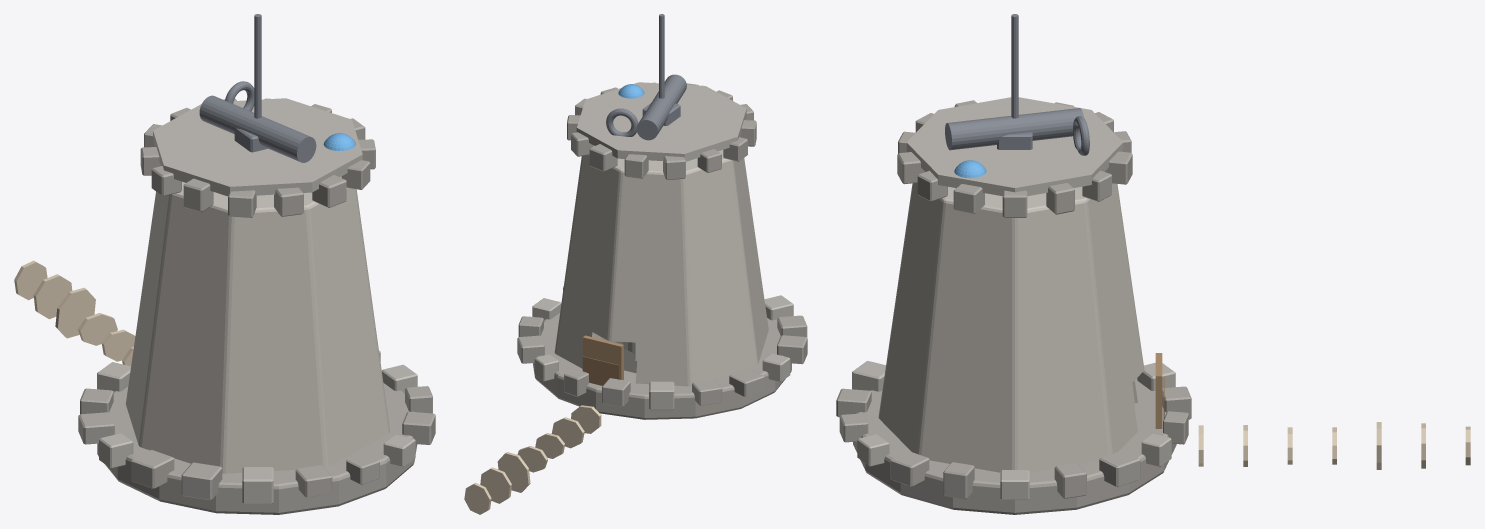
File: defense_tower.glb
3 views of the same model, side by side, from view 1: azimuth 30°, elevation 25°; view 2: azimuth 150°, elevation 25°; view 3: azimuth 270°, elevation 25° (orthographic). The views are drawn at different scales.
Visible parts, largest first — view 1: TowerBody, TopPlatform, StoneBaseRing, TurretBarrel, PathStone_4, BaseStone_11, BaseStone_10, BaseStone_12, PathStone_5, BaseStone_13, BaseStone_08, BaseStone_09 (+19 smaller); view 2: TowerBody, TopPlatform, StoneBaseRing, TurretBarrel, DoorLeaf, PathStone_4, PathStone_5, BaseStone_06, BaseStone_08, BaseStone_10, BaseStone_05, PathStone_1 (+22 smaller); view 3: TowerBody, TopPlatform, StoneBaseRing, TurretBarrel, BaseStone_02, BaseStone_16, BaseStone_17, BaseStone_01, BaseStone_00, BaseStone_12, BaseStone_15, BaseStone_13 (+7 smaller).
Boxes of the visible parts, x1,y1,x2,y2 form: TowerBody: (126,176,389,473); TopPlatform: (153,98,362,196); StoneBaseRing: (97,383,417,514); TurretBarrel: (199,95,316,162); PathStone_4: (55,287,95,338); BaseStone_11: (181,462,222,500); BaseStone_10: (131,450,174,488); BaseStone_12: (242,467,273,504); PathStone_5: (33,274,72,319); BaseStone_13: (295,465,332,497); BaseStone_08: (78,412,114,444); BaseStone_09: (99,433,133,468); TowerBody: (554,145,768,386); TopPlatform: (576,82,746,161); StoneBaseRing: (532,313,791,419); TurretBarrel: (636,74,686,140); DoorLeaf: (582,335,623,379); PathStone_4: (497,452,530,492); PathStone_5: (480,467,511,503); BaseStone_06: (649,381,674,410); BaseStone_08: (729,368,764,396); BaseStone_10: (777,335,807,363); BaseStone_05: (602,378,630,406); PathStone_1: (551,417,584,448); TowerBody: (878,183,1144,472); TopPlatform: (906,97,1123,196); StoneBaseRing: (853,378,1176,514); TurretBarrel: (945,108,1083,150); BaseStone_02: (1099,450,1140,487); BaseStone_16: (890,451,929,486); BaseStone_17: (943,462,974,499); BaseStone_01: (1054,462,1086,498); BaseStone_00: (1000,470,1029,499); BaseStone_12: (852,361,885,391); BaseStone_15: (857,434,889,466); BaseStone_13: (836,388,871,417).
Size of what is drawn, in the model's own units: 4.37 by 6.17 by 7.84.
